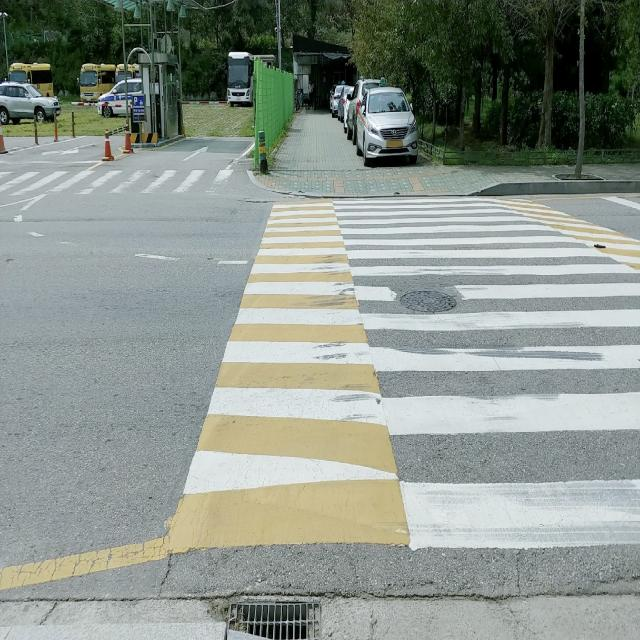횡단보도: (329, 195, 640, 553)
